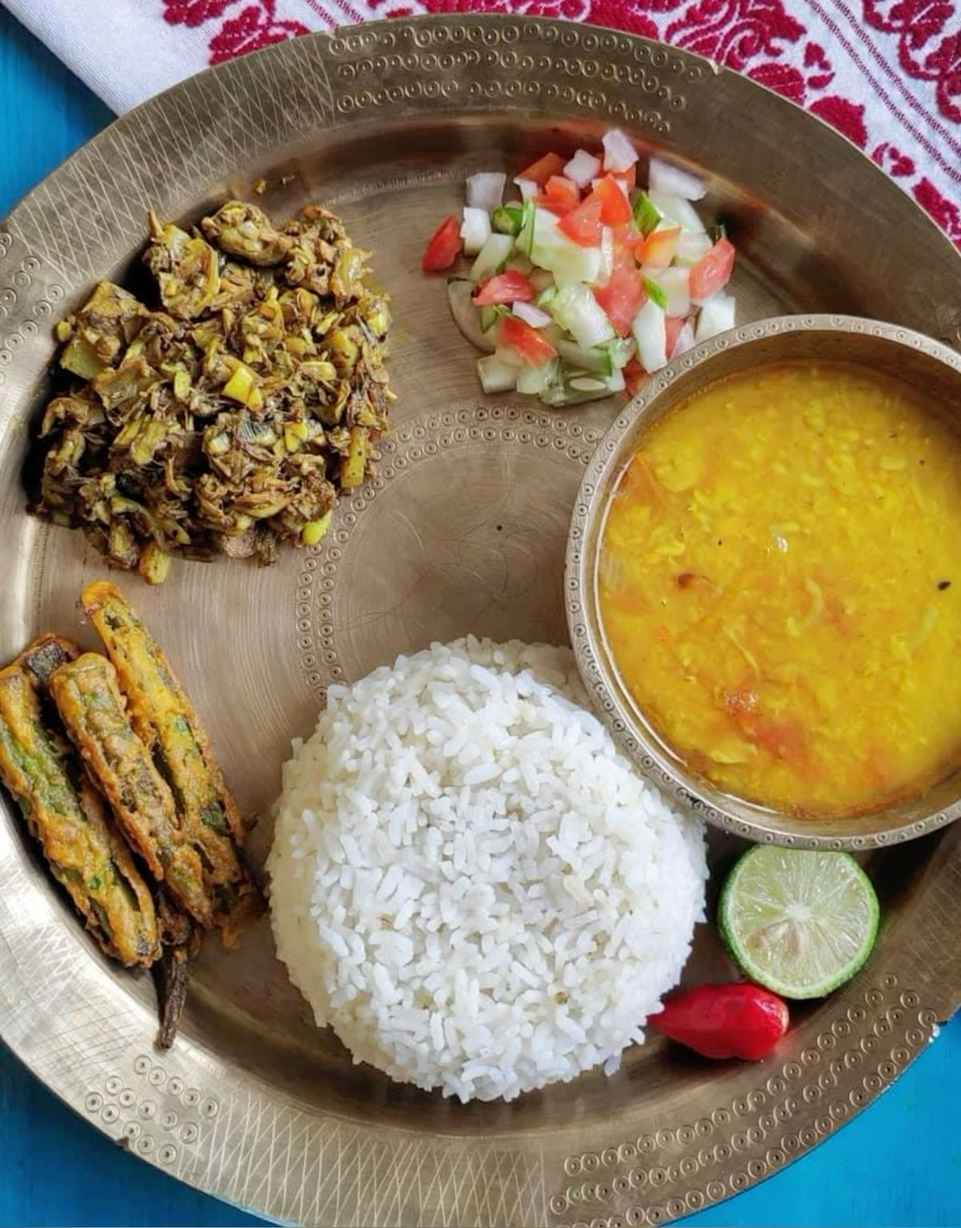bhat: (268, 641, 703, 1100)
dal: (602, 367, 954, 809)
sabji: (60, 204, 373, 541)
